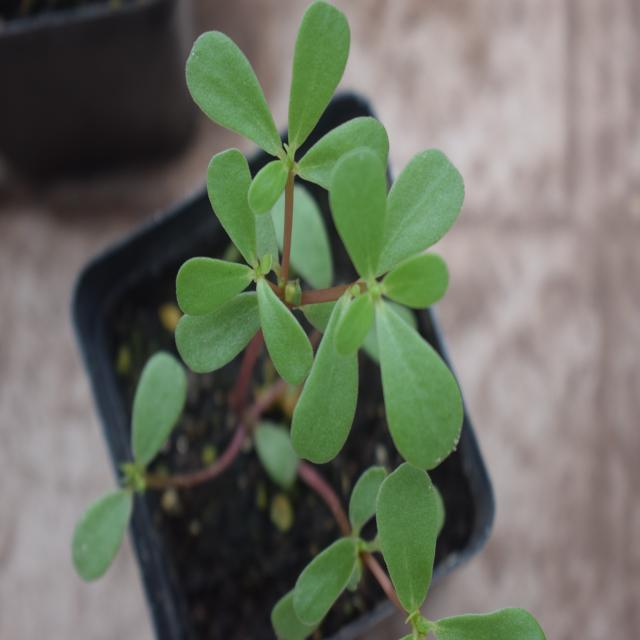purslane: (152, 29, 476, 556)
